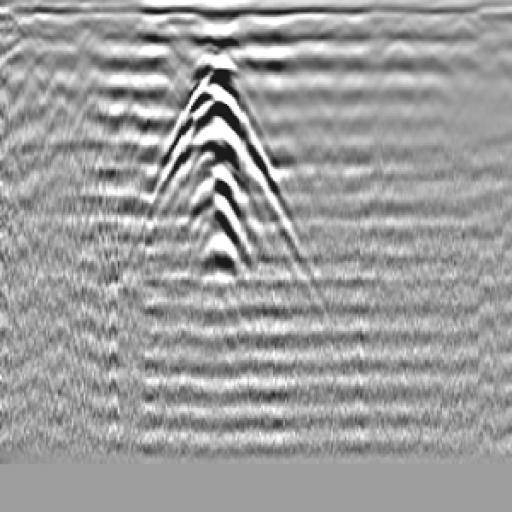metalic: (137, 59, 290, 255)
